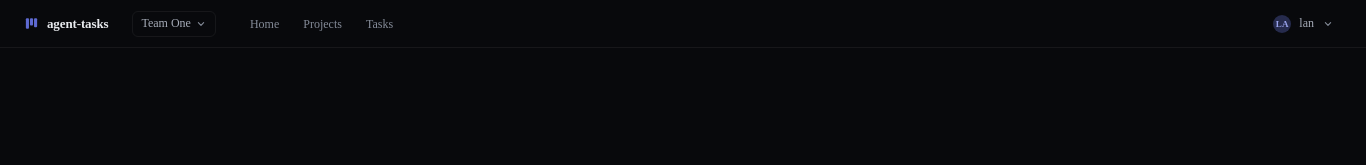
Scenario: AppHeader team switch › on personal settings it remembers the team but stays put
The width and height of the screenshot is (1366, 165).
Click the button with aria-label "Switch team": click(174, 24) left=132, top=10, right=216, bottom=36
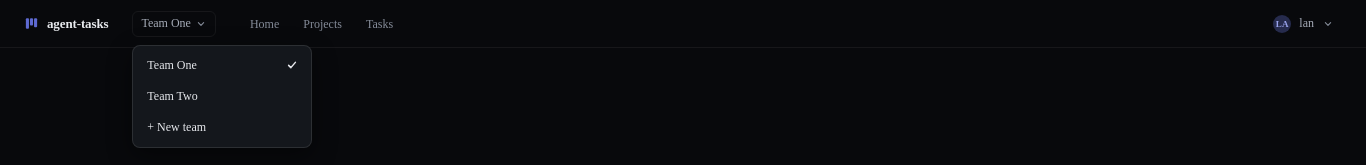
Click the menu item "Team Two": click(222, 96) left=137, top=80, right=307, bottom=112
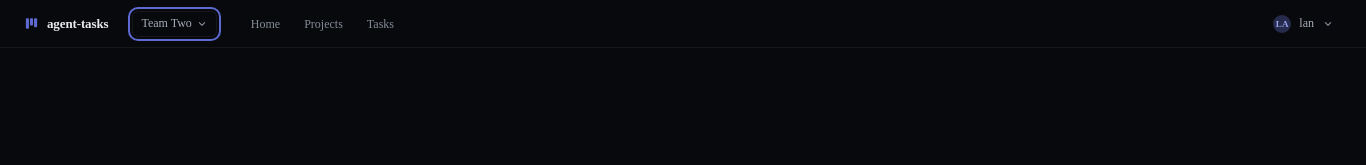
Expected: the button with aria-label "current team Team Two" is shown, left=132, top=10, right=217, bottom=36
